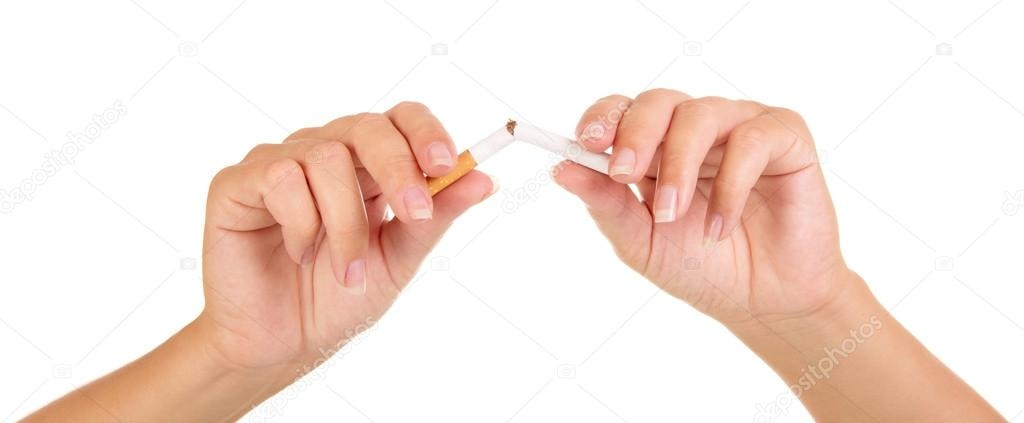sigaretta: (403, 106, 667, 208)
